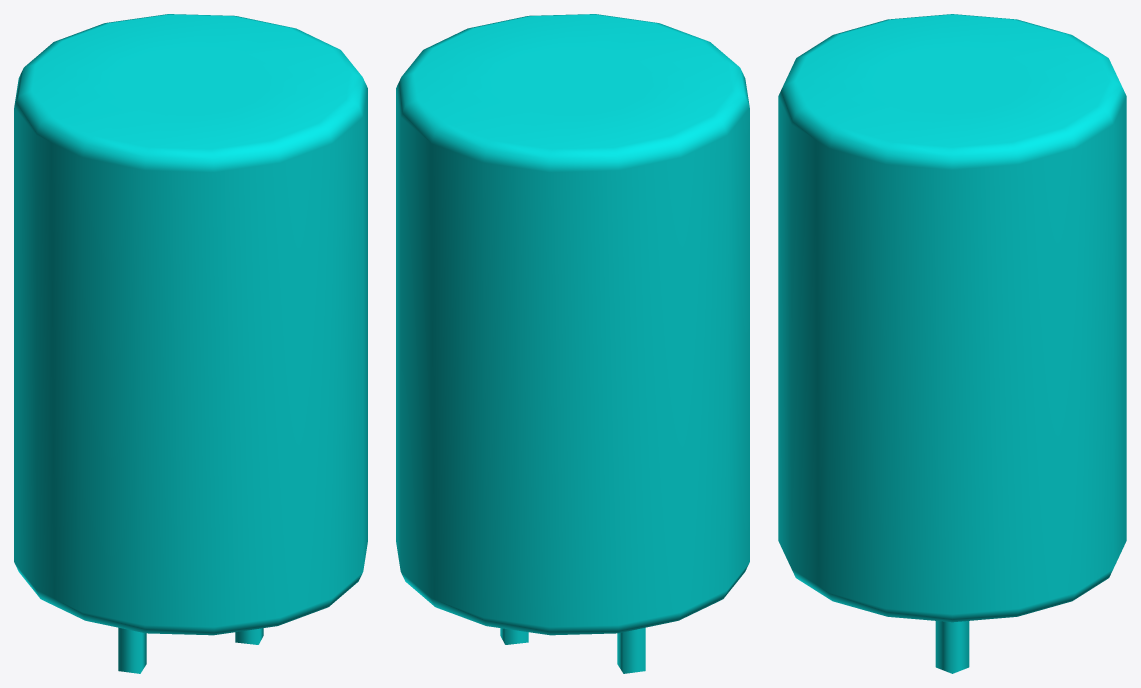
File: BasicNode.fbx
3 renders of one model, left to right at view 1: azimuth 30°, elevation 25°; view 2: azimuth 150°, elevation 25°; view 3: azimuth 270°, elevation 25°, orthographic. The views are drawn at different scales.
Parts seen in each view (by area): view 1: pCylinder1; view 2: pCylinder1; view 3: pCylinder1.
Part boxes in pixels (<box>): pCylinder1: <box>14,14,367,673</box>; pCylinder1: <box>396,14,749,673</box>; pCylinder1: <box>778,14,1126,673</box>.
Size of the model in its own units: 40 by 70.7 by 40.
